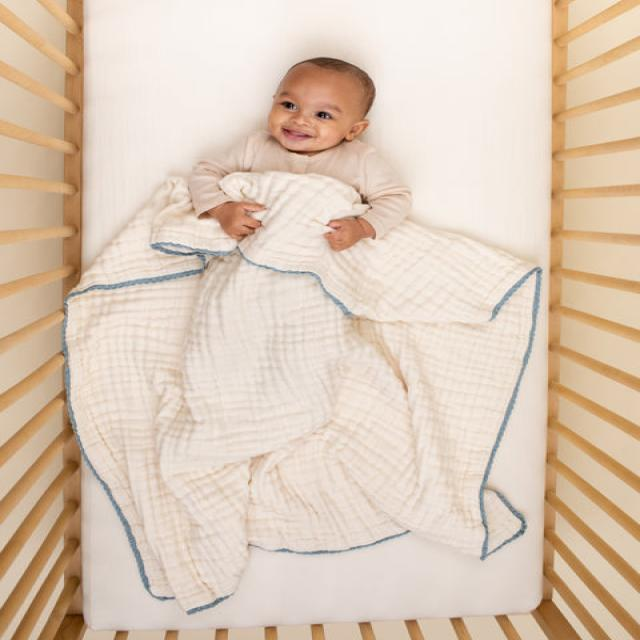blanket: (67, 172, 541, 611)
